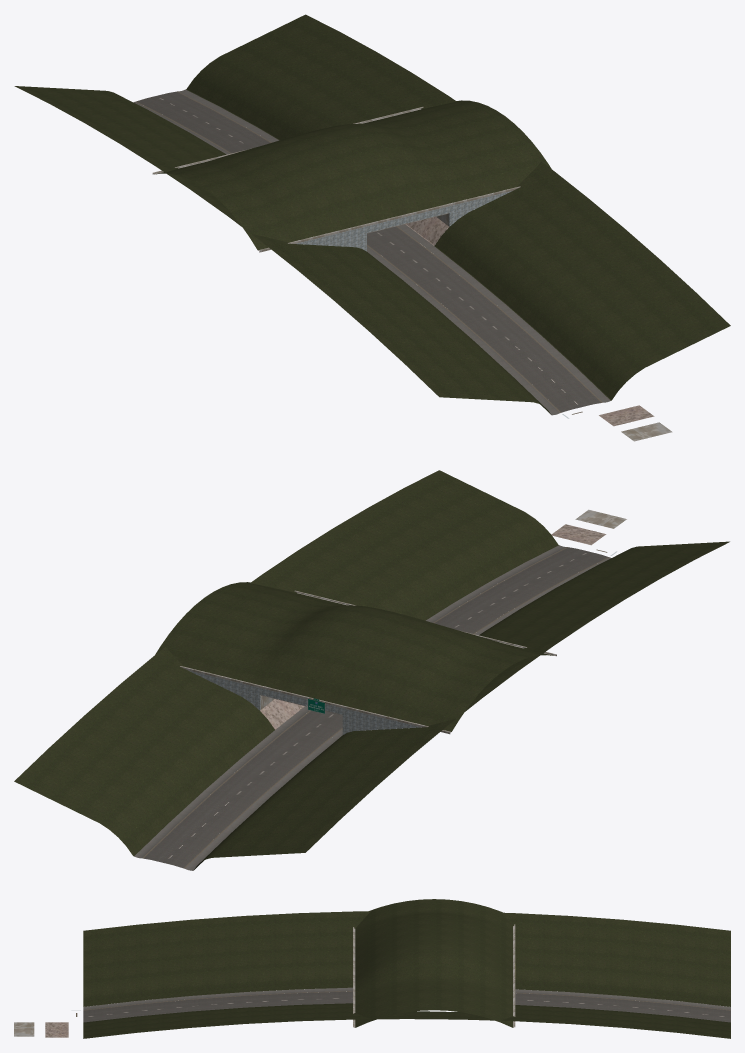
The model's file is road-tunnel.glb.
The picture shows the model from 3 angles, top to bottom: view 1: azimuth 30°, elevation 25°; view 2: azimuth 150°, elevation 25°; view 3: azimuth 270°, elevation 25°; orthographic projection. The views are drawn at different scales.
Parts seen in each view (by area): view 1: Material2 (×7); view 2: Material2 (×7); view 3: Material2 (×6).
Boxes of the visible parts, bbox=[...] form: Material2 (×7): bbox=[14, 14, 730, 441]; Material2 (×7): bbox=[14, 470, 729, 870]; Material2 (×6): bbox=[14, 899, 730, 1038].
Bounding box in the file's own units: 2695 × 877 × 7346.
Materials: 12 (9 with a texture image).
